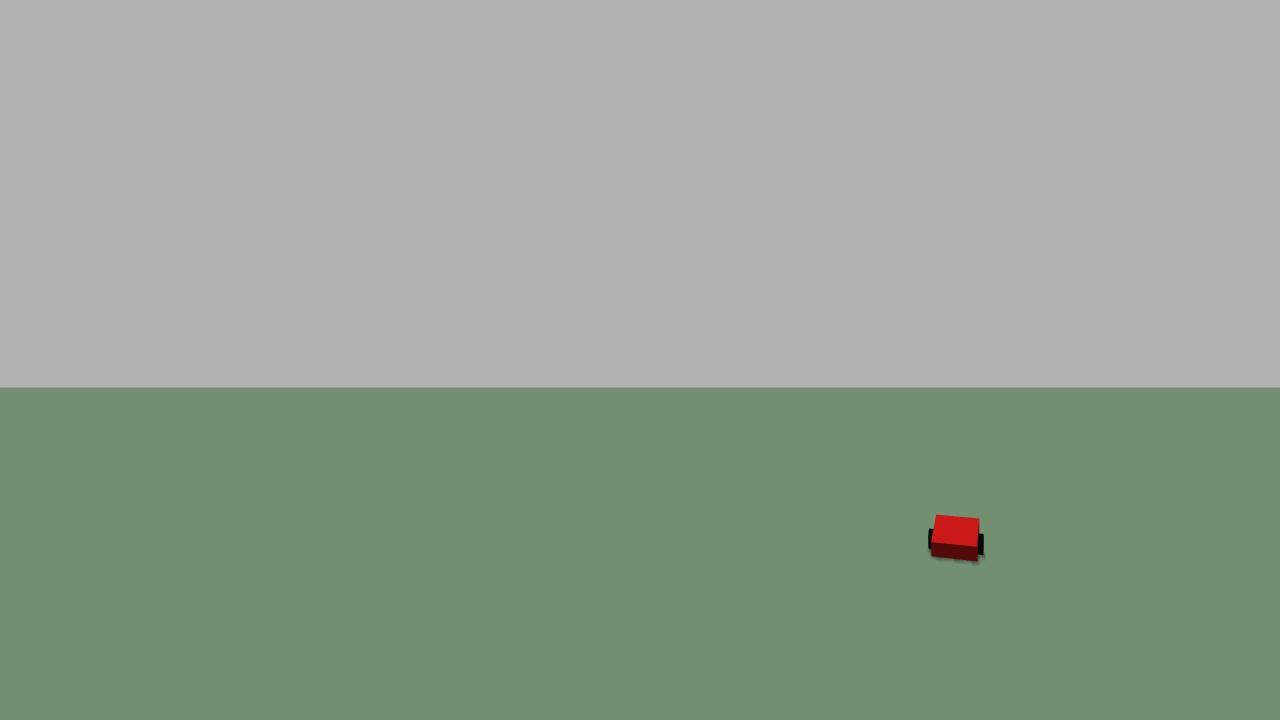ground_vehicle: (922, 498, 992, 569)
